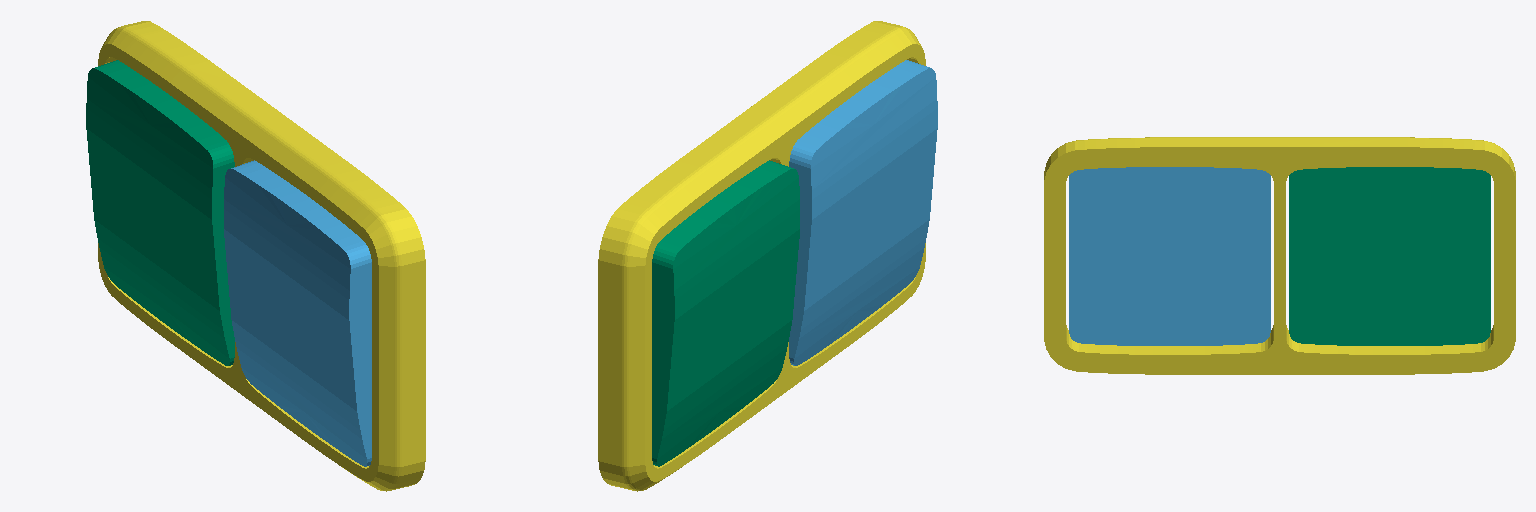
The robot description file, URDF, robot "partnet_399cb702b96d2011dc5f68d8d7e8ab0":
<robot name="partnet_399cb702b96d2011dc5f68d8d7e8ab0">
	<link name="base"><inertial><mass value="10" /><inertia ixx="1" ixy="0" ixz="0" iyy="1" iyz="0" izz="1" /></inertial></link>
	<link name="link_0">
		<visual name="switch-1">
			<origin xyz="-0.8101530000000015 0.000755486902682824 -0.006919829480950812" />
			<geometry>
				<mesh filename="textured_objs/original-2.obj" />
			</geometry>
		</visual>
		<collision>
			<origin xyz="-0.8101530000000015 0.000755486902682824 -0.006919829480950812" />
			<geometry>
				<mesh filename="textured_objs/original-2.obj" />
			</geometry>
		</collision>
	<inertial><mass value="10" /><inertia ixx="1" ixy="0" ixz="0" iyy="1" iyz="0" izz="1" /></inertial></link>
	<joint name="joint_0" type="revolute">
		<origin xyz="0.8101530000000015 -0.000755486902682824 0.006919829480950812" />
		<axis xyz="-1 0 0" />
		<child link="link_0" />
		<parent link="link_2" />
		<limit effort="30" lower="-0.0" upper="0.15707963267948966" velocity="1.0" />
	</joint>
	<link name="link_1">
		<visual name="switch-2">
			<origin xyz="-0.8101530000000015 0.000755486902682824 -0.006919829480950812" />
			<geometry>
				<mesh filename="textured_objs/original-1.obj" />
			</geometry>
		</visual>
		<collision>
			<origin xyz="-0.8101530000000015 0.000755486902682824 -0.006919829480950812" />
			<geometry>
				<mesh filename="textured_objs/original-1.obj" />
			</geometry>
		</collision>
	<inertial><mass value="10" /><inertia ixx="1" ixy="0" ixz="0" iyy="1" iyz="0" izz="1" /></inertial></link>
	<joint name="joint_1" type="revolute">
		<origin xyz="0.8101530000000015 -0.000755486902682824 0.006919829480950812" />
		<axis xyz="-1 0 0" />
		<child link="link_1" />
		<parent link="link_2" />
		<limit effort="30" lower="-0.0" upper="0.15707963267948966" velocity="1.0" />
	</joint>
	<link name="link_2">
		<visual name="base_body-3">
			<origin xyz="0 0 0" />
			<geometry>
				<mesh filename="textured_objs/original-3.obj" />
			</geometry>
		</visual>
		<collision>
			<origin xyz="0 0 0" />
			<geometry>
				<mesh filename="textured_objs/original-3.obj" />
			</geometry>
		</collision>
	<inertial><mass value="10" /><inertia ixx="1" ixy="0" ixz="0" iyy="1" iyz="0" izz="1" /></inertial></link>
	<joint name="joint_2" type="fixed">
		<origin rpy="1.570796326794897 0 -1.570796326794897" xyz="0 0 0" />
		<child link="link_2" />
		<parent link="base" />
	</joint>
</robot>

--- Render facts (derived) ---
Views: 3 orthographic renders of the robot side by side, from view 1: azimuth 30°, elevation 25°; view 2: azimuth 150°, elevation 25°; view 3: azimuth 270°, elevation 25°.
Robot: partnet_399cb702b96d2011dc5f68d8d7e8ab0 — 4 links, 3 joints (2 revolute, 1 fixed); root link base; default pose: every joint at zero.
Links seen in each view (by area): view 1: link_2, link_0, link_1; view 2: link_2, link_1, link_0; view 3: link_2, link_0, link_1.
Boxes of the visible links, left/top/right/bottom form: link_2: left=98, top=21, right=425, bottom=491; link_0: left=224, top=160, right=371, bottom=466; link_1: left=86, top=60, right=234, bottom=365; link_2: left=598, top=21, right=925, bottom=491; link_1: left=652, top=160, right=799, bottom=466; link_0: left=789, top=60, right=937, bottom=365; link_2: left=1044, top=137, right=1515, bottom=374; link_0: left=1069, top=167, right=1270, bottom=345; link_1: left=1289, top=167, right=1490, bottom=345.
Bounding box of the posed robot: 0.2201 × 1.85 × 0.9836 m (x, y, z).
3 mesh visuals loaded from 3 distinct referenced files (3 OBJ).